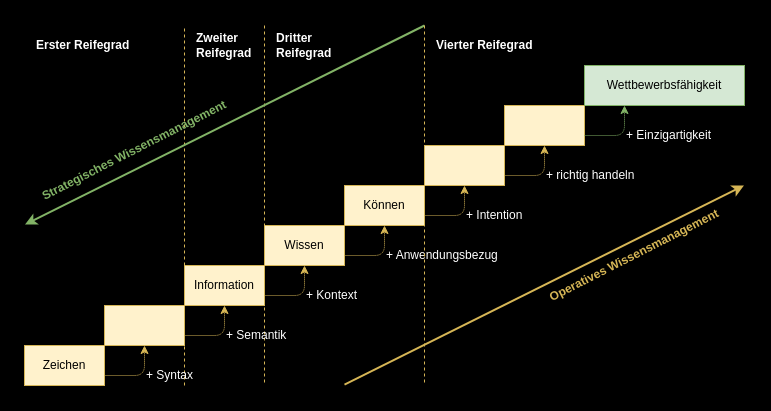
This 771x411 diagram has some shape labels left out. Each missing label, with the centre of its shape:
Daten: point 144,325
Handeln: point 464,165
Kompetenz: point 544,125
